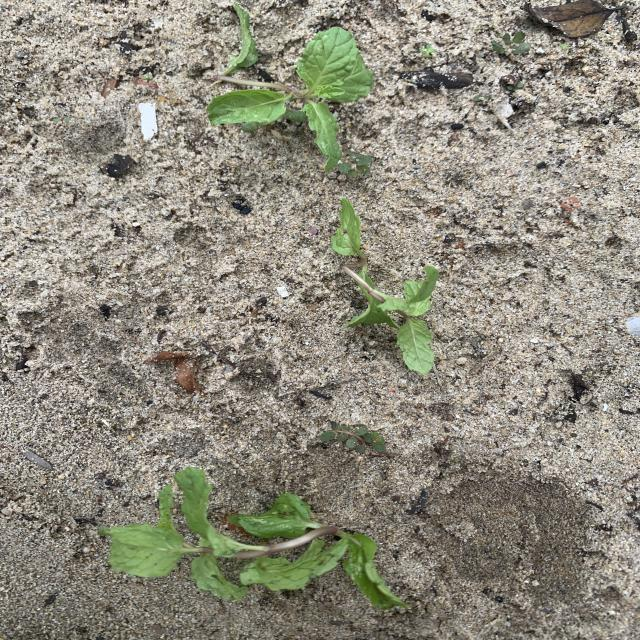crop: (99, 467, 409, 610), (207, 2, 373, 172), (332, 198, 439, 374)
weed: (320, 422, 394, 457), (492, 31, 530, 57), (340, 150, 372, 178), (472, 93, 490, 107), (506, 82, 525, 95), (420, 43, 436, 57), (559, 43, 575, 54), (52, 116, 71, 125)
